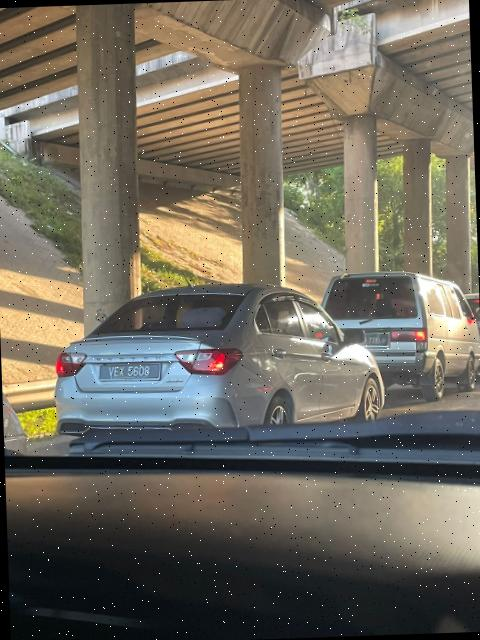License_Plate: (97, 361, 165, 383)
car: (50, 274, 391, 439)
van: (321, 259, 480, 397)
